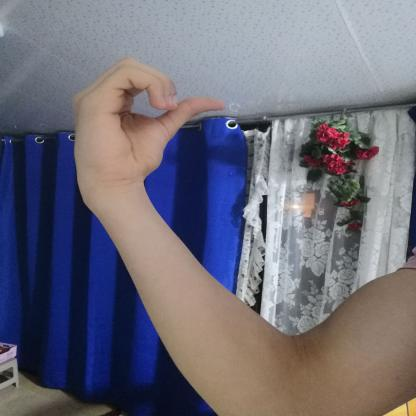WAW: (59, 50, 236, 204)
